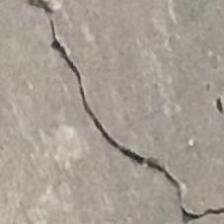Crack: (27, 0, 224, 217)
